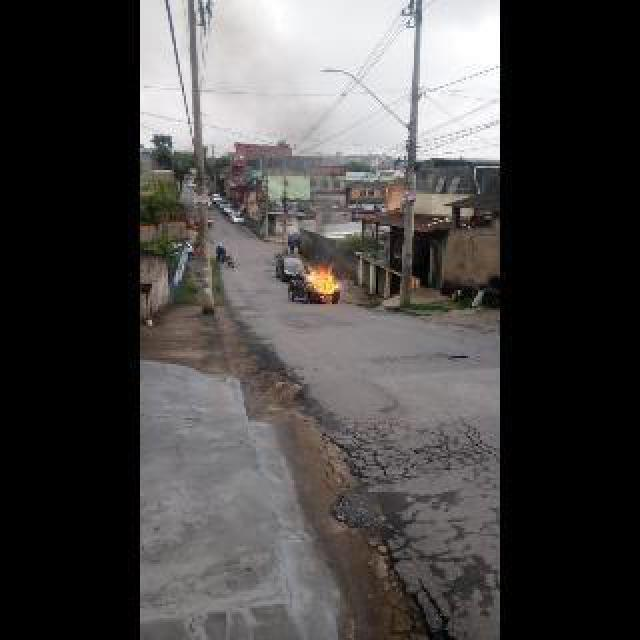Fire: (306, 266, 340, 298)
Smoke: (292, 92, 350, 266)
